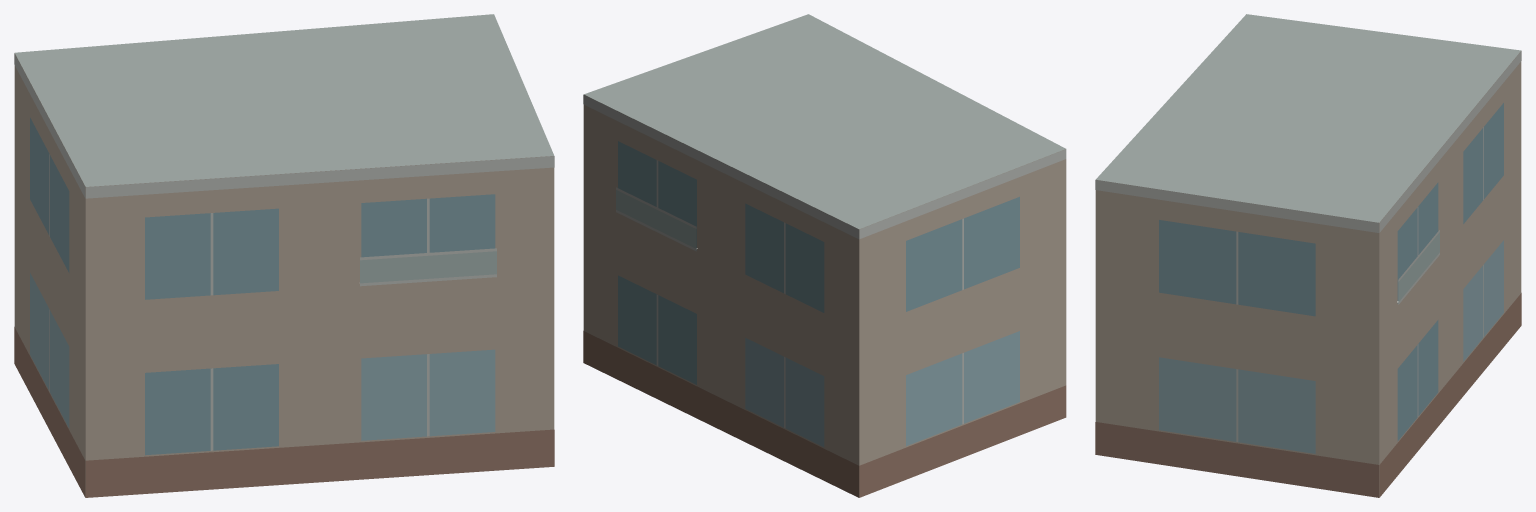
The model's file is survey-upis-32834207.glb.
3 renders of one model, left to right at view 1: azimuth 30°, elevation 25°; view 2: azimuth 150°, elevation 25°; view 3: azimuth 270°, elevation 25°, orthographic. The views are drawn at different scales.
Parts seen in each view (by area): view 1: survey-upis-32834207.tmp; view 2: survey-upis-32834207.tmp; view 3: survey-upis-32834207.tmp.
Boxes of the visible parts, bbox=[...] form: survey-upis-32834207.tmp: bbox=[14, 14, 554, 497]; survey-upis-32834207.tmp: bbox=[583, 14, 1066, 497]; survey-upis-32834207.tmp: bbox=[1095, 14, 1521, 497].
Bounding box in the file's own units: 10.59 × 6.5 × 9.14.
